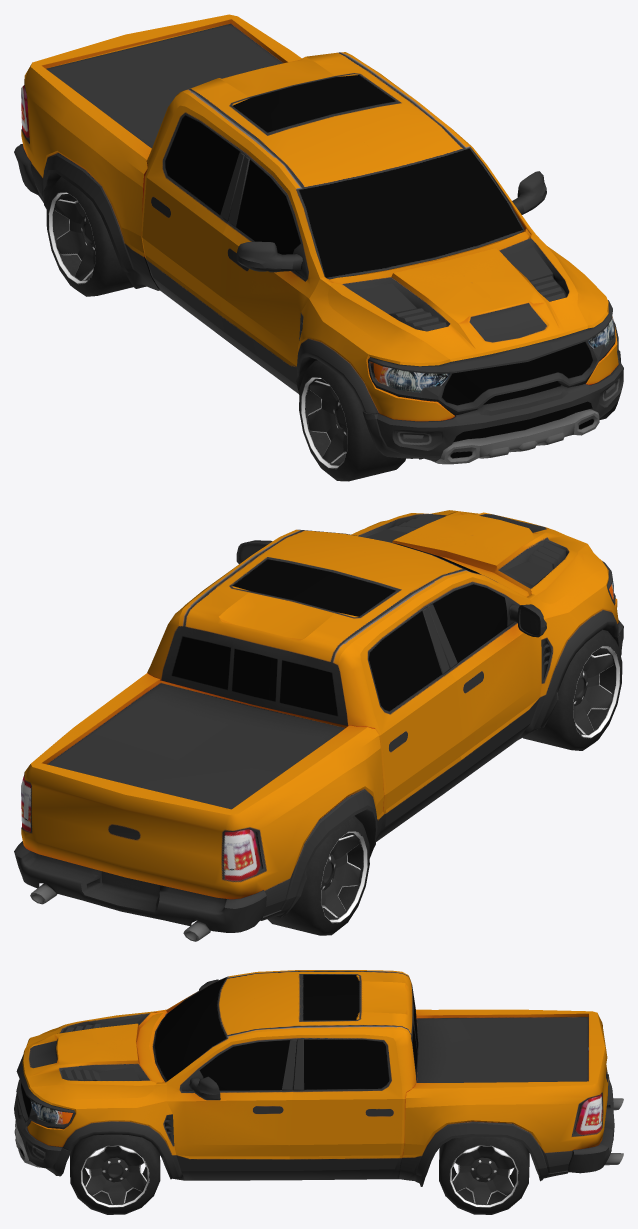
Rendered from Dodge.fbx.
3 views of the same model, one above another, from view 1: azimuth 30°, elevation 25°; view 2: azimuth 150°, elevation 25°; view 3: azimuth 270°, elevation 25° (orthographic). The views are drawn at different scales.
Visible parts, largest first — view 1: BSurfaceMesh.012, BSurfaceMesh.001, BSurfaceMesh.006, Cylinder.002, BSurfaceMesh.005, BSurfaceMesh.003, BSurfaceMesh.004; view 2: BSurfaceMesh.012, BSurfaceMesh.001, Cylinder.002, BSurfaceMesh.006, BSurfaceMesh.002, Cylinder; view 3: BSurfaceMesh.012, BSurfaceMesh.001, Cylinder.002, BSurfaceMesh.006, BSurfaceMesh.005, BSurfaceMesh.002, BSurfaceMesh.003.
Part boxes in pixels (x1,y1,x2,y2): BSurfaceMesh.012: [141, 52, 618, 459]; BSurfaceMesh.001: [21, 14, 301, 290]; BSurfaceMesh.006: [327, 228, 608, 366]; Cylinder.002: [46, 176, 618, 481]; BSurfaceMesh.005: [368, 300, 615, 442]; BSurfaceMesh.003: [362, 350, 623, 461]; BSurfaceMesh.004: [431, 408, 599, 464]; BSurfaceMesh.012: [147, 520, 618, 841]; BSurfaceMesh.001: [21, 673, 384, 920]; Cylinder.002: [267, 629, 622, 935]; BSurfaceMesh.006: [351, 510, 607, 604]; BSurfaceMesh.002: [14, 841, 266, 932]; Cylinder: [30, 883, 210, 941]; BSurfaceMesh.012: [27, 970, 418, 1180]; BSurfaceMesh.001: [399, 1009, 608, 1186]; Cylinder.002: [70, 1134, 529, 1214]; BSurfaceMesh.006: [22, 1011, 167, 1104]; BSurfaceMesh.005: [16, 1054, 75, 1129]; BSurfaceMesh.002: [568, 1074, 614, 1173]; BSurfaceMesh.003: [14, 1093, 71, 1176].
Size of the model in its own units: 251 by 597 by 187.
1 material, 1 textured.
